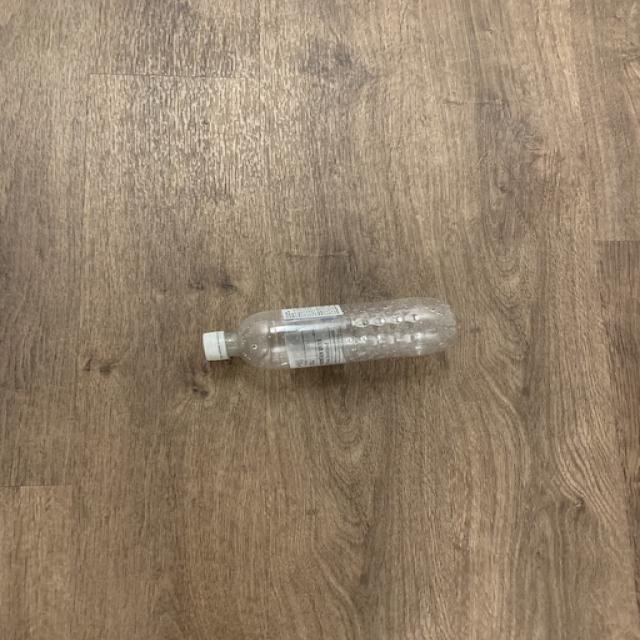BotolPlastik: (200, 295, 459, 371)
